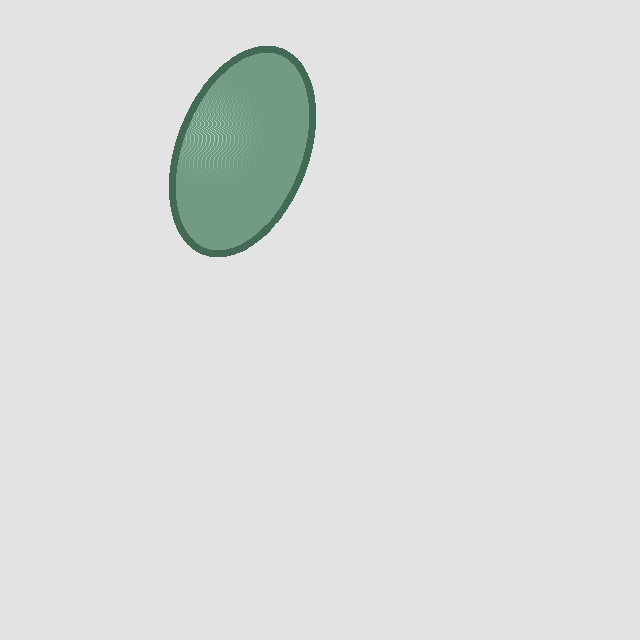lens: (172, 49, 312, 253)
